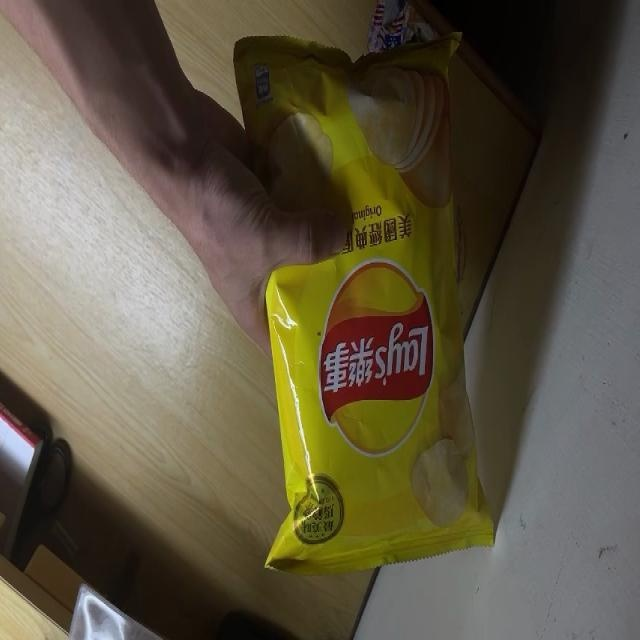Lay-s-original: (230, 40, 498, 570)
